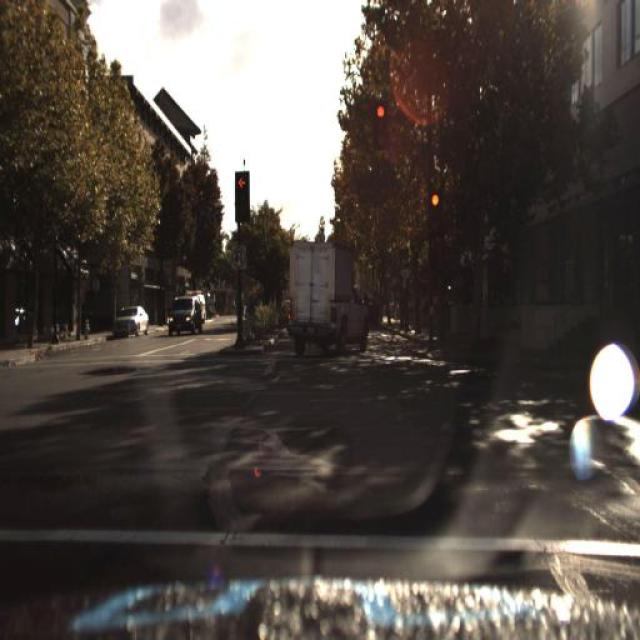car: (288, 227, 370, 358), (113, 297, 151, 338), (164, 298, 205, 334), (114, 302, 152, 339)
trafficLight-Green: (376, 100, 385, 138)
trafficLight-RedLeft: (429, 194, 442, 230)
trafficLight-Yellow: (236, 171, 250, 217)
